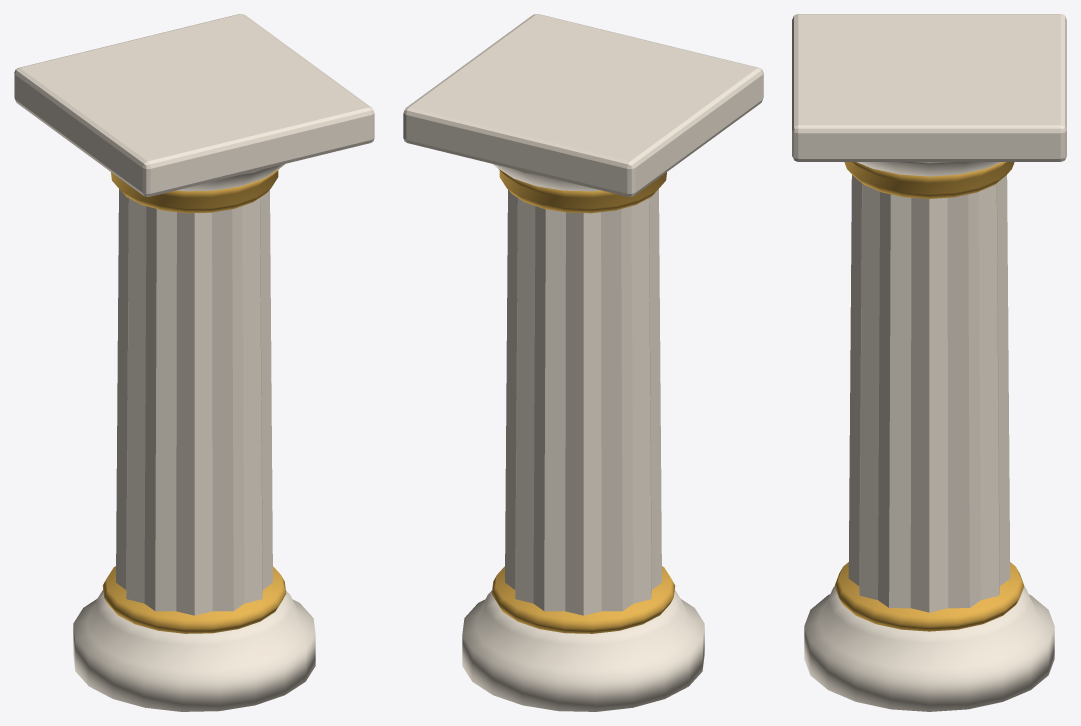
File: column.glb
3 views of the same model, side by side, from view 1: azimuth 30°, elevation 25°; view 2: azimuth 150°, elevation 25°; view 3: azimuth 270°, elevation 25° (orthographic). The views are drawn at different scales.
Visible parts, largest first — view 1: shaft, abacus, base, ring, neck, echinus; view 2: shaft, abacus, base, ring, neck, echinus; view 3: shaft, abacus, base, ring, neck, echinus.
Part boxes in pixels (x1=…): shaft: x1=116, y1=189, x2=272, y2=615; abacus: x1=14, y1=14, x2=374, y2=196; base: x1=73, y1=590, x2=315, y2=711; ring: x1=102, y1=566, x2=286, y2=633; neck: x1=111, y1=168, x2=279, y2=213; echinus: x1=177, y1=164, x2=284, y2=191; shaft: x1=505, y1=189, x2=661, y2=615; abacus: x1=403, y1=14, x2=763, y2=196; base: x1=462, y1=590, x2=704, y2=711; ring: x1=491, y1=566, x2=675, y2=633; neck: x1=498, y1=168, x2=666, y2=213; echinus: x1=493, y1=164, x2=600, y2=191; shaft: x1=848, y1=175, x2=1010, y2=612; abacus: x1=792, y1=14, x2=1066, y2=161; base: x1=804, y1=586, x2=1054, y2=711; ring: x1=834, y1=562, x2=1024, y2=631; neck: x1=844, y1=162, x2=1014, y2=198; echinus: x1=857, y1=162, x2=1001, y2=176.
Size of the model in its own units: 1.36 by 3.22 by 1.36.
